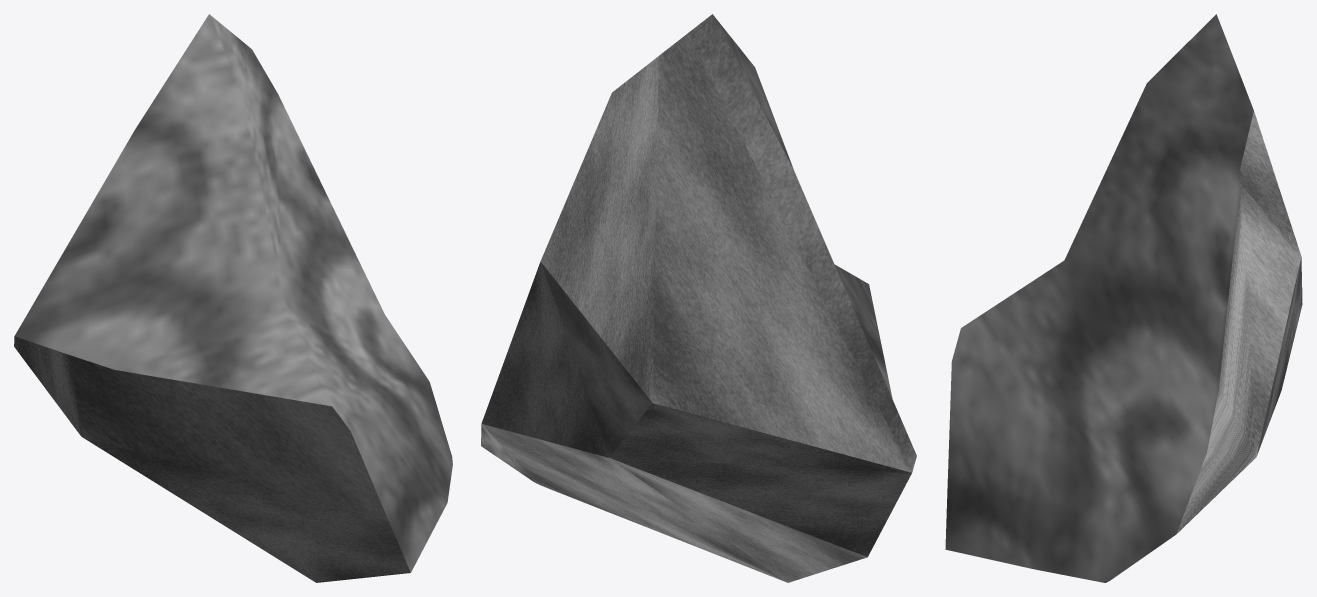
The model's file is tail_cell_014.fbx.
3 renders of one model, left to right at view 1: azimuth 30°, elevation 25°; view 2: azimuth 150°, elevation 25°; view 3: azimuth 270°, elevation 25°, orthographic. The views are drawn at different scales.
Visible parts, largest first — view 1: tail_cell.014; view 2: tail_cell.014; view 3: tail_cell.014.
Boxes of the visible parts, x1,y1,x2,y2 form: tail_cell.014: [14, 14, 452, 582]; tail_cell.014: [481, 14, 916, 582]; tail_cell.014: [945, 14, 1302, 582].
Bounding box in the file's own units: 57.87 × 74.99 × 45.46.
